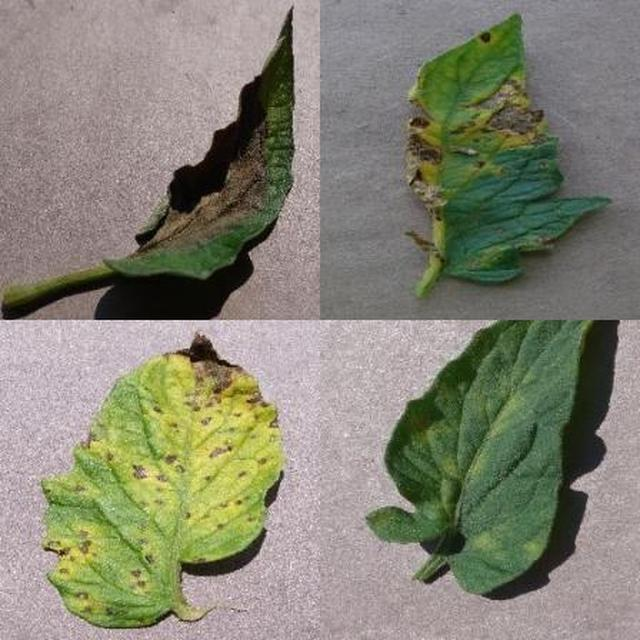Late Blight Leaf: (231, 206, 640, 640)
